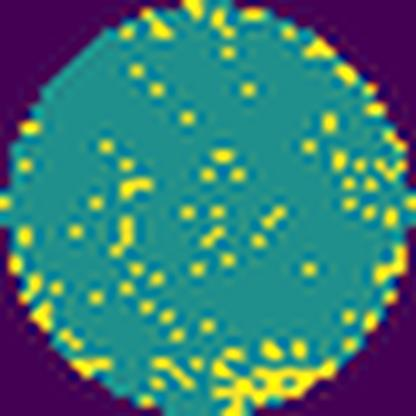Edge-Loc: (207, 344, 341, 416), (72, 348, 118, 381)
